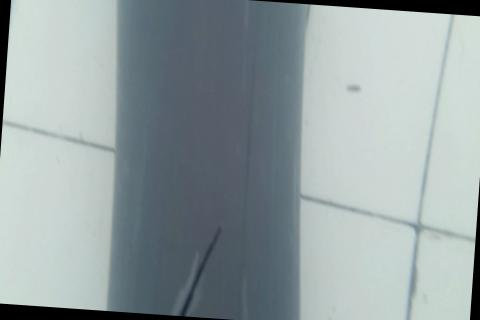keretakan: (171, 222, 223, 319)
